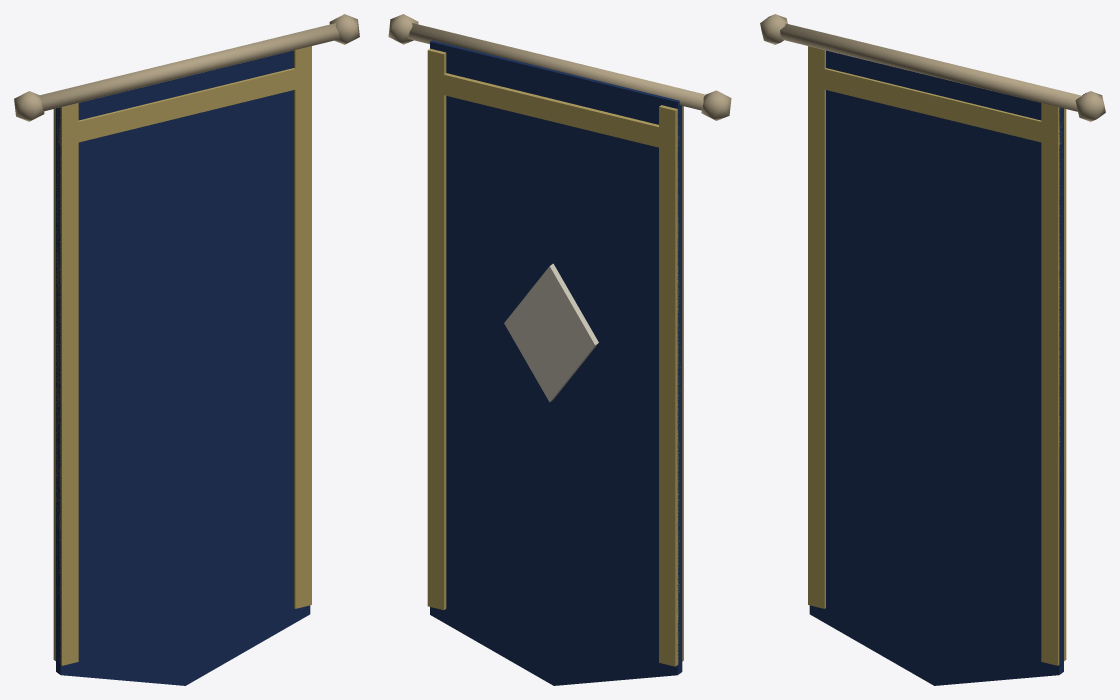
The model's file is swamp_thing_banner_v0.glb.
3 renders of one model, left to right at view 1: azimuth 30°, elevation 25°; view 2: azimuth 150°, elevation 25°; view 3: azimuth 330°, elevation 25°, orthographic.
Visible parts, largest first — view 1: swamp_thing_banner_v0; view 2: swamp_thing_banner_v0; view 3: swamp_thing_banner_v0.
Boxes of the visible parts, left/top/right/bottom form: swamp_thing_banner_v0: left=14, top=14, right=359, bottom=685; swamp_thing_banner_v0: left=388, top=14, right=731, bottom=685; swamp_thing_banner_v0: left=760, top=14, right=1105, bottom=685.
Size of the model in its own units: 1.04 by 1.84 by 0.0933.
